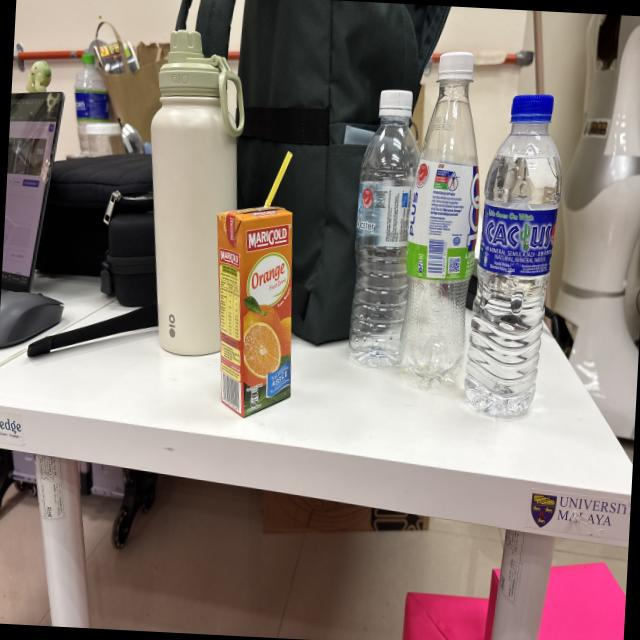drink_carton: (204, 140, 312, 427)
plastic_bottle: (458, 79, 572, 432), (390, 42, 492, 402), (342, 80, 428, 383)
